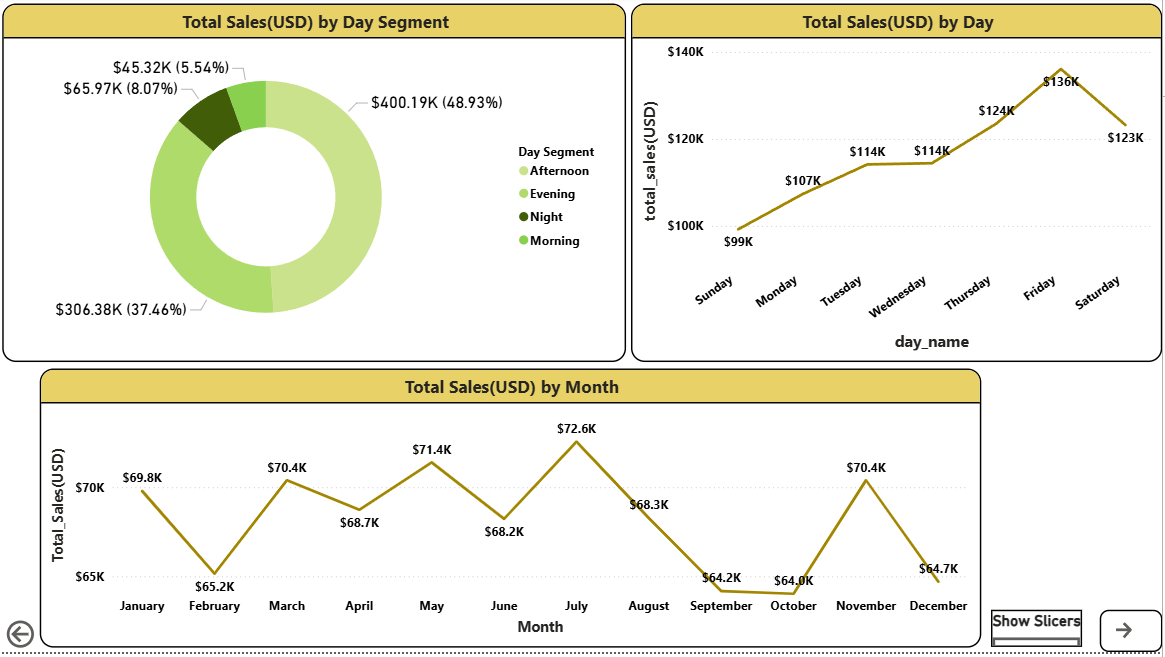

This screenshot's page, from the dashboard's own definition file:
{"tool":"powerbi","page":{"name":"Monthly and Day wise Analysis","canvas":[1280,720],"ordinal":1},"visuals":[{"type":"lineChart","title":"Total Sales(USD) by Month","fields":{"Category":["orders.date.Variation.Date Hierarchy.Month"],"Y":["pizzas.total_sales(USD)"]},"box":[48,408.9,1033.3,306],"z":0},{"type":"donutChart","title":"Total Sales(USD) by Day Segment","fields":{"Y":["pizzas.total_sales(USD)"],"Category":["orders.Day Segment"]},"box":[6.9,8.2,684.7,393.8],"z":1000},{"type":"actionButton","title":"Show Slicers","box":[1092.3,673.8,100.2,41.2],"z":2000},{"type":"actionButton","box":[6.9,680.6,41.2,39.8],"z":5000},{"type":"actionButton","box":[1211.7,673.8,68.6,46.7],"z":6000},{"type":"lineChart","title":"Total Sales(USD) by Day","fields":{"Y":["pizzas.total_sales(USD)"],"Category":["orders.day_name"]},"box":[697.1,8.2,583.2,393.8],"z":7000}]}

Visuals, with their boxes in screenshot pixels (x1, y1, x2, y2), scaled from the page's 1280x720 canvas onto the 1165x657 screenshot:
"Total Sales(USD) by Month" lineChart: crop(44, 373, 984, 652)
"Total Sales(USD) by Day Segment" donutChart: crop(6, 7, 629, 367)
"Show Slicers" actionButton: crop(994, 615, 1085, 652)
actionButton: crop(6, 621, 44, 656)
actionButton: crop(1103, 615, 1164, 656)
"Total Sales(USD) by Day" lineChart: crop(634, 7, 1164, 367)
